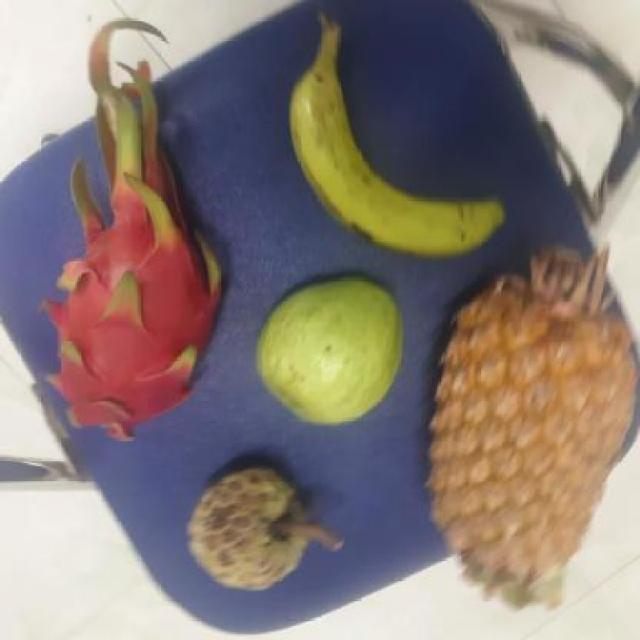banana: (279, 58, 501, 255)
dragon fruit: (39, 195, 216, 436)
guava: (248, 278, 403, 424)
sugar apple: (181, 462, 310, 589)
